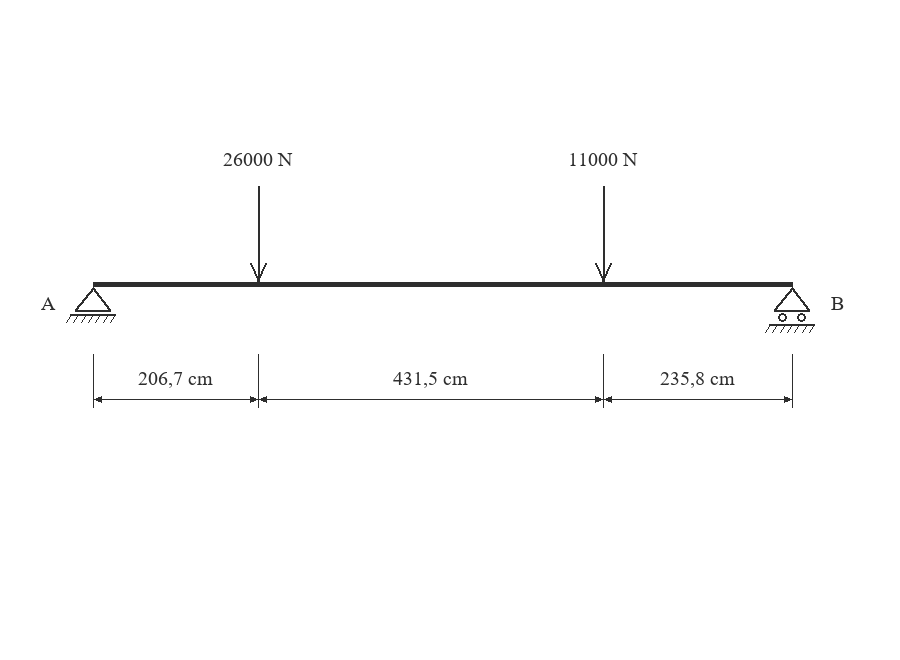pin_support: (66, 287, 116, 323)
point_load: (250, 186, 267, 282), (595, 186, 612, 282)
roller_support: (765, 287, 815, 333)
